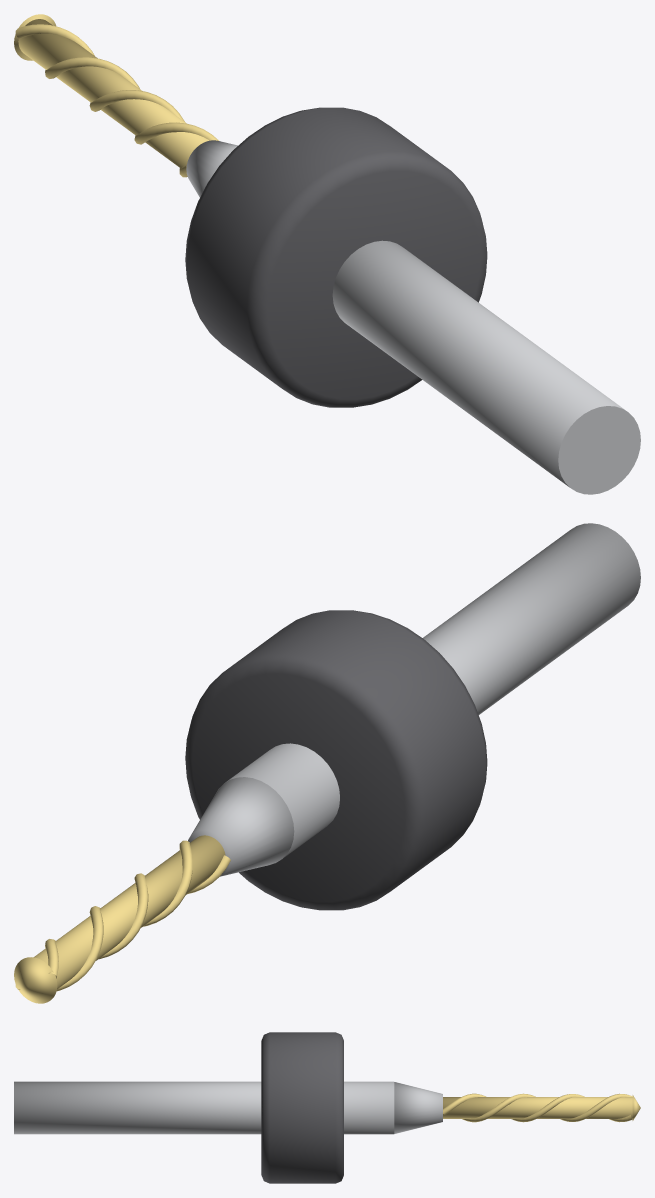
The model's file is drill18_1p7.glb.
The picture shows the model from 3 angles, top to bottom: view 1: azimuth 30°, elevation 25°; view 2: azimuth 150°, elevation 25°; view 3: azimuth 270°, elevation 25°; orthographic projection. The views are drawn at different scales.
Parts seen in each view (by area): view 1: Cylinder.002, Cylinder.001, Cylinder, flute, flute.001, Cone; view 2: Cylinder.002, Cylinder.001, Cone, Cylinder, flute, flute.001, Cone.001; view 3: Cylinder.001, Cylinder.002, Cylinder, Cone, flute.001, flute.
Part boxes in pixels (x1,y1,x2,y2): Cylinder.002: [185, 107, 487, 407]; Cylinder.001: [332, 240, 640, 494]; Cylinder: [18, 19, 209, 169]; flute: [45, 57, 218, 144]; flute.001: [15, 24, 187, 177]; Cone: [186, 140, 237, 197]; Cylinder.002: [185, 610, 487, 910]; Cylinder.001: [225, 523, 640, 858]; Cone: [188, 777, 294, 876]; Cylinder: [34, 835, 225, 989]; flute: [15, 840, 192, 991]; flute.001: [45, 855, 230, 978]; Cone.001: [14, 957, 57, 1003]; Cylinder.001: [14, 1081, 394, 1134]; Cylinder.002: [261, 1032, 343, 1183]; Cylinder: [443, 1097, 632, 1118]; Cone: [394, 1082, 442, 1133]; flute.001: [462, 1093, 632, 1122]; flute: [443, 1093, 634, 1122].
Bounding box in the file's own units: 0.00917 × 0.00917 × 0.038.
